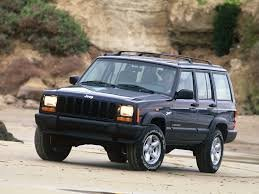mobil: (34, 50, 241, 180)
